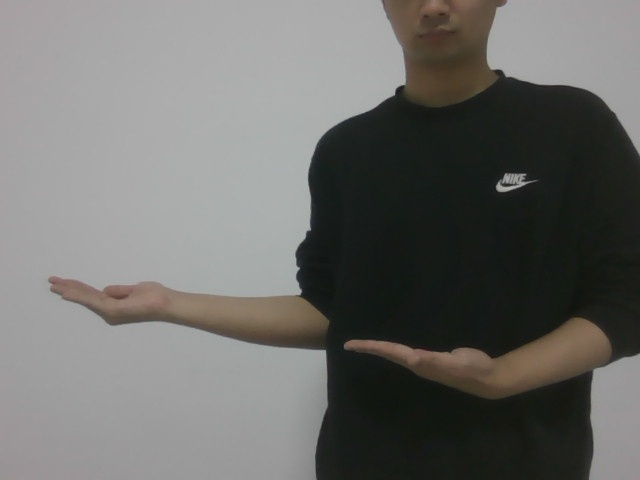please: (34, 266, 510, 405)
